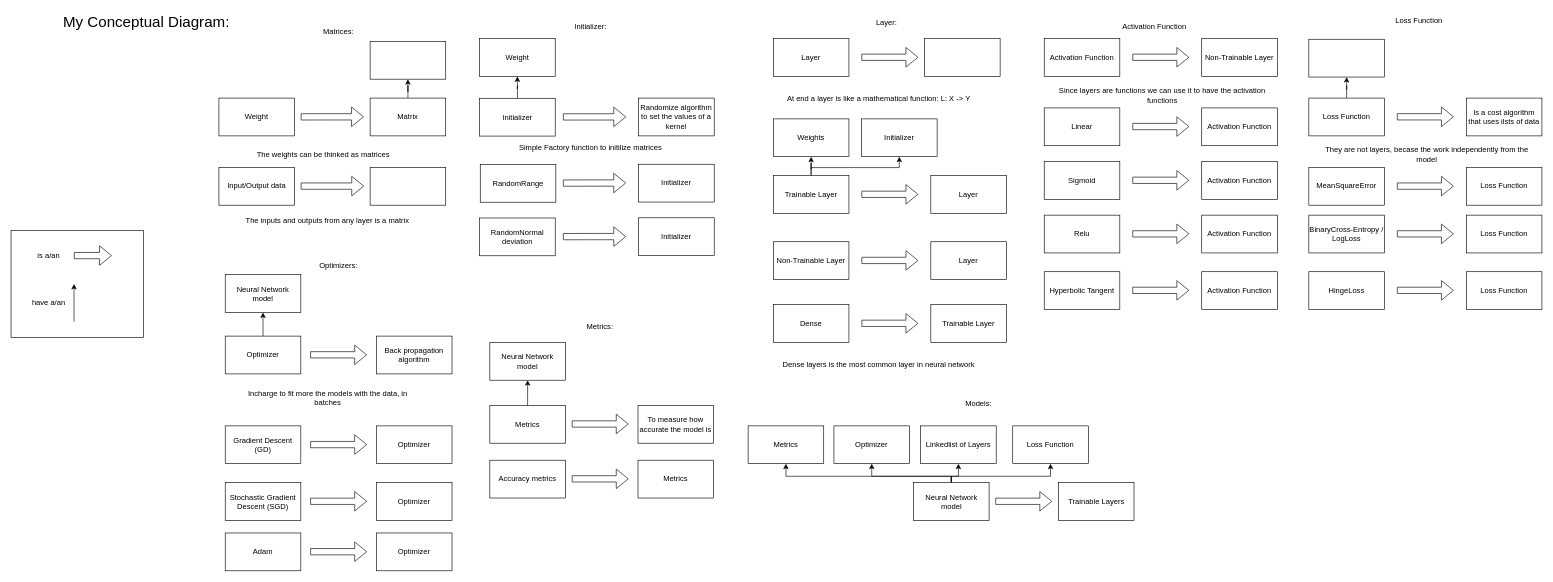
The diagram is 1553 pixels wide and 582 high, and some of its shapes have lost their labels. Each missing label, with the centre of its shape:
"2d - Array" goes at [407,60].
"a list of Input/Output" goes at [1346,58].
"dataflow In/Out" goes at [962,57].
"Matrice" goes at [407,186].
